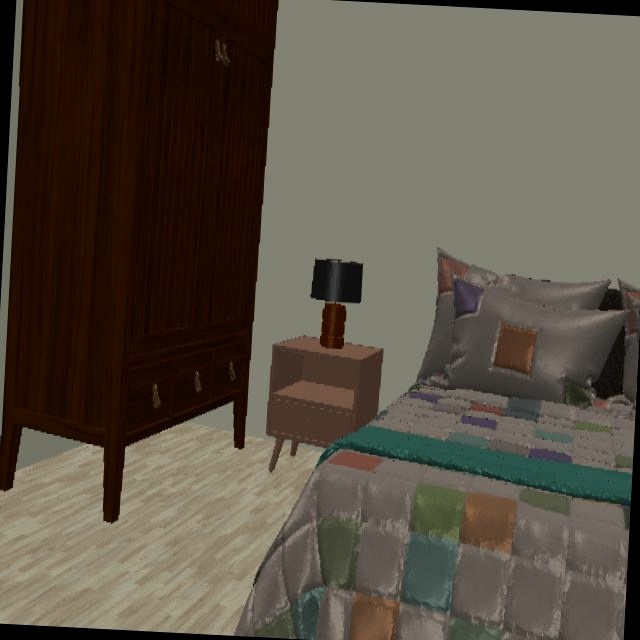bed: (234, 374, 636, 640), (591, 316, 632, 401), (600, 290, 624, 312)
lamp: (310, 259, 364, 350)
nighttable: (265, 336, 383, 472)
pillow: (417, 249, 609, 380), (447, 277, 631, 409), (618, 280, 640, 409)
